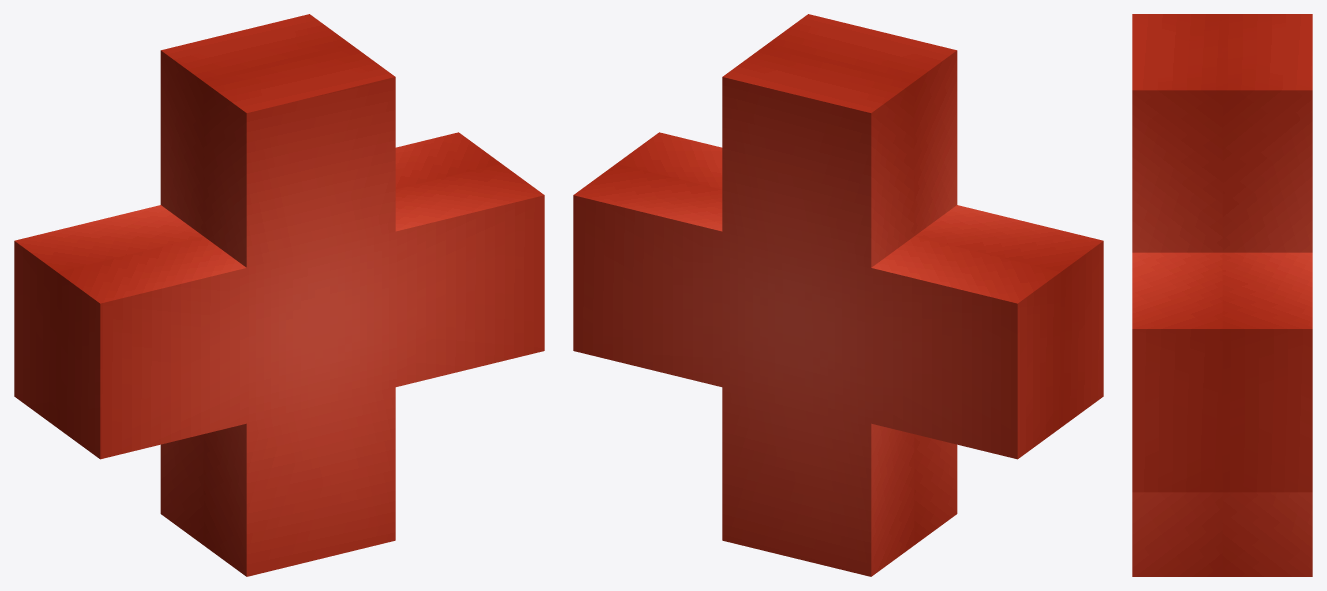
Rendered from PickupHealth.fbx.
The picture shows the model from 3 angles, left to right: view 1: azimuth 30°, elevation 25°; view 2: azimuth 150°, elevation 25°; view 3: azimuth 270°, elevation 25°; orthographic projection. The views are drawn at different scales.
Visible parts, largest first — view 1: Health_Pickup; view 2: Health_Pickup; view 3: Health_Pickup.
Boxes of the visible parts, box(x1,y1,x2,y2) form: Health_Pickup: box(14, 14, 544, 576); Health_Pickup: box(573, 14, 1103, 576); Health_Pickup: box(1132, 14, 1312, 576).
Size of the model in its own units: 1.35 by 1.35 by 0.4523.
Materials: 1 (1 with a texture image).
